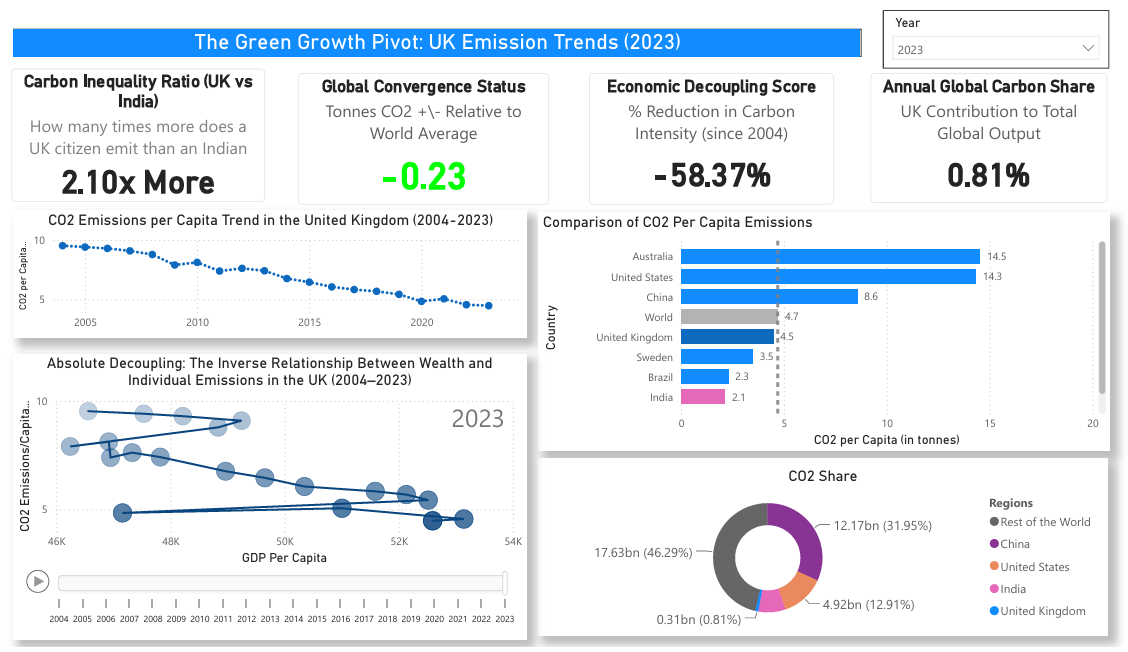

This screenshot's page, from the dashboard's own definition file:
{"tool":"powerbi","page":{"name":"Dashboard","canvas":[1280,720],"ordinal":2},"visuals":[{"type":"card","title":"Carbon Inequality Ratio                  (UK vs India)","fields":{"Values":["Master.KPI_Inequality_Ratio"]},"box":[17.3,66,286.6,150.6],"z":0,"group":"g2"},{"type":"group","id":"g1","title":"Group 3","box":[17.3,66,1241.3,641.5],"z":0},{"type":"group","id":"g2","title":"Group 1","box":[17.3,66,1239.2,154.2],"z":0,"group":"g1"},{"type":"textbox","box":[19.4,21,958.6,32.4],"z":1000},{"type":"card","title":"Annual Global Carbon Share","fields":{"Values":["Master.KPI_Global_Share"]},"box":[988.5,71.2,268,147.2],"z":1000,"group":"g2"},{"type":"card","title":"Economic Decoupling Score","fields":{"Values":["Master.Decoupling_Score_Dynamic"]},"box":[670.4,71.4,276.6,148.8],"z":2000,"group":"g2"},{"type":"lineChart","title":"CO2 Emissions per Capita Trend in the United Kingdom (2004-2023)","fields":{"Category":["Master.Year"],"Y":["Sum(Master.CO2 emissions per capita)"]},"box":[19.9,226.6,579.8,143.5],"z":2000,"group":"g3"},{"type":"scatterChart","title":"Absolute Decoupling: The Inverse Relationship Between Wealth and Individual Emissions in the UK (2004–2023)","fields":{"Play":["Master.Year"],"Size":["Sum(Master.Population)"],"X":["Sum(Master.GDP per Capita (in international $ at 2021 prices))"],"Y":["Sum(Master.CO2 emissions per capita)"]},"box":[19.4,388.6,579.7,323.8],"z":2000},{"type":"slicer","fields":{"Values":["Master.Year"]},"box":[1002.3,0,255.8,66.4],"z":3000},{"type":"card","title":"Global Convergence Status","fields":{"Values":["Master.KPI_Convergence_Gap"]},"box":[341.6,71.4,283.6,148.8],"z":3000,"group":"g2"},{"type":"clusteredBarChart","title":"Comparison of CO2 Per Capita Emissions ","fields":{"Category":["Master.Entity"],"Y":["Avg(Master.CO2 emissions per capita)"]},"box":[613.3,228.7,645.3,270.4],"z":3000,"group":"g3"},{"type":"donutChart","title":"CO2 Share ","fields":{"Category":["Category.Emissions_Categories"],"Y":["Category.Emissions_by_Category"]},"box":[611.5,506.8,645.3,200.7],"z":4000,"group":"g3"},{"type":"group","id":"g3","title":"Group 2","box":[19.9,226.6,1238.7,480.9],"z":4001,"group":"g1"}]}

Visuals, with their boxes in screenshot pixels (x1, y1, x2, y2), scaled from the page's 1280x720 canvas onto the 1128x652 screenshot:
"Carbon Inequality Ratio                  (UK vs India)" card: x1=15 y1=60 x2=268 y2=196
"Group 3" group: x1=15 y1=60 x2=1109 y2=641
"Group 1" group: x1=15 y1=60 x2=1107 y2=199
textbox: x1=17 y1=19 x2=862 y2=48
"Annual Global Carbon Share" card: x1=871 y1=64 x2=1107 y2=198
"Economic Decoupling Score" card: x1=591 y1=65 x2=835 y2=199
"CO2 Emissions per Capita Trend in the United Kingdom (2004-2023)" lineChart: x1=18 y1=205 x2=528 y2=335
"Absolute Decoupling: The Inverse Relationship Between Wealth and Individual Emissions in the UK (2004–2023)" scatterChart: x1=17 y1=352 x2=528 y2=645
slicer - Master.Year: x1=883 y1=0 x2=1109 y2=60
"Global Convergence Status" card: x1=301 y1=65 x2=551 y2=199
"Comparison of CO2 Per Capita Emissions " clusteredBarChart: x1=540 y1=207 x2=1109 y2=452
"CO2 Share " donutChart: x1=539 y1=459 x2=1108 y2=641
"Group 2" group: x1=18 y1=205 x2=1109 y2=641
